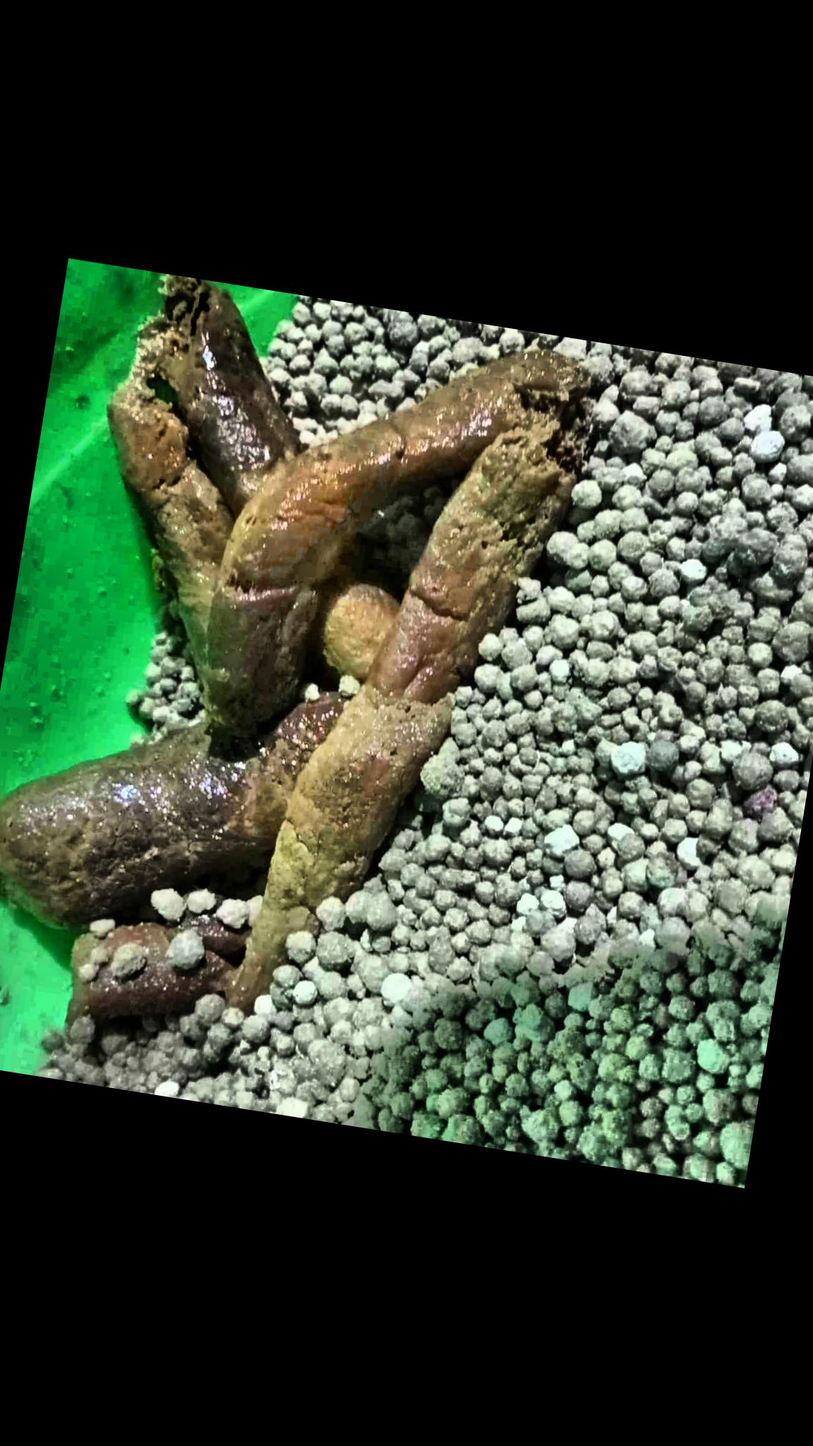poop: (233, 350, 588, 1000), (144, 371, 514, 758), (0, 694, 346, 926), (108, 377, 234, 664), (155, 274, 298, 513), (69, 917, 244, 1022)
